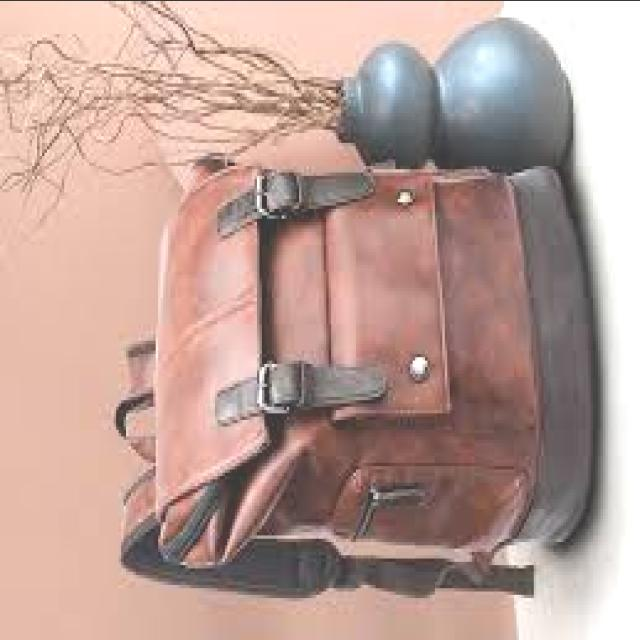backpack: (113, 127, 597, 602)
